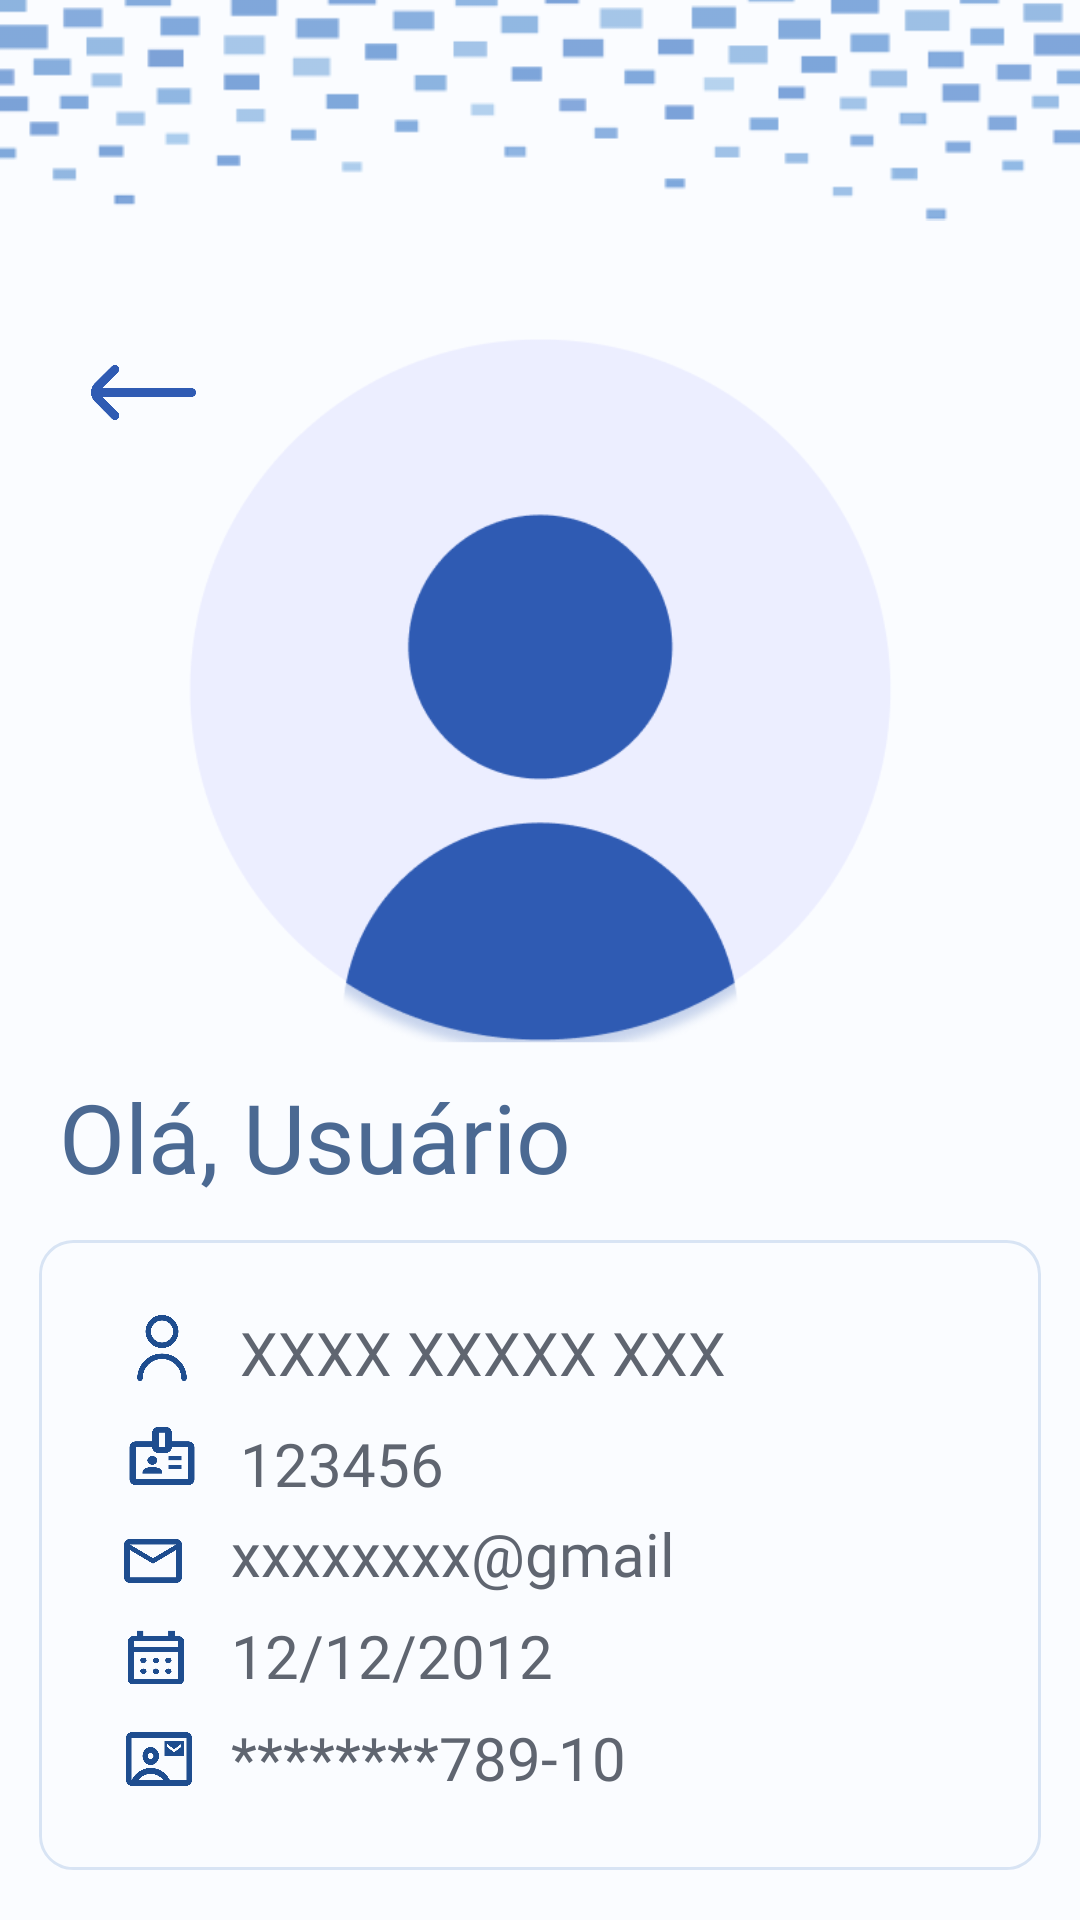

Locate icon controls on the screen. Image size 1080x1920, boxes as (x1, y1, x2, y2).
calendario: (128, 1631, 184, 1684)
email: (124, 1539, 182, 1583)
seta: (91, 365, 196, 420)
